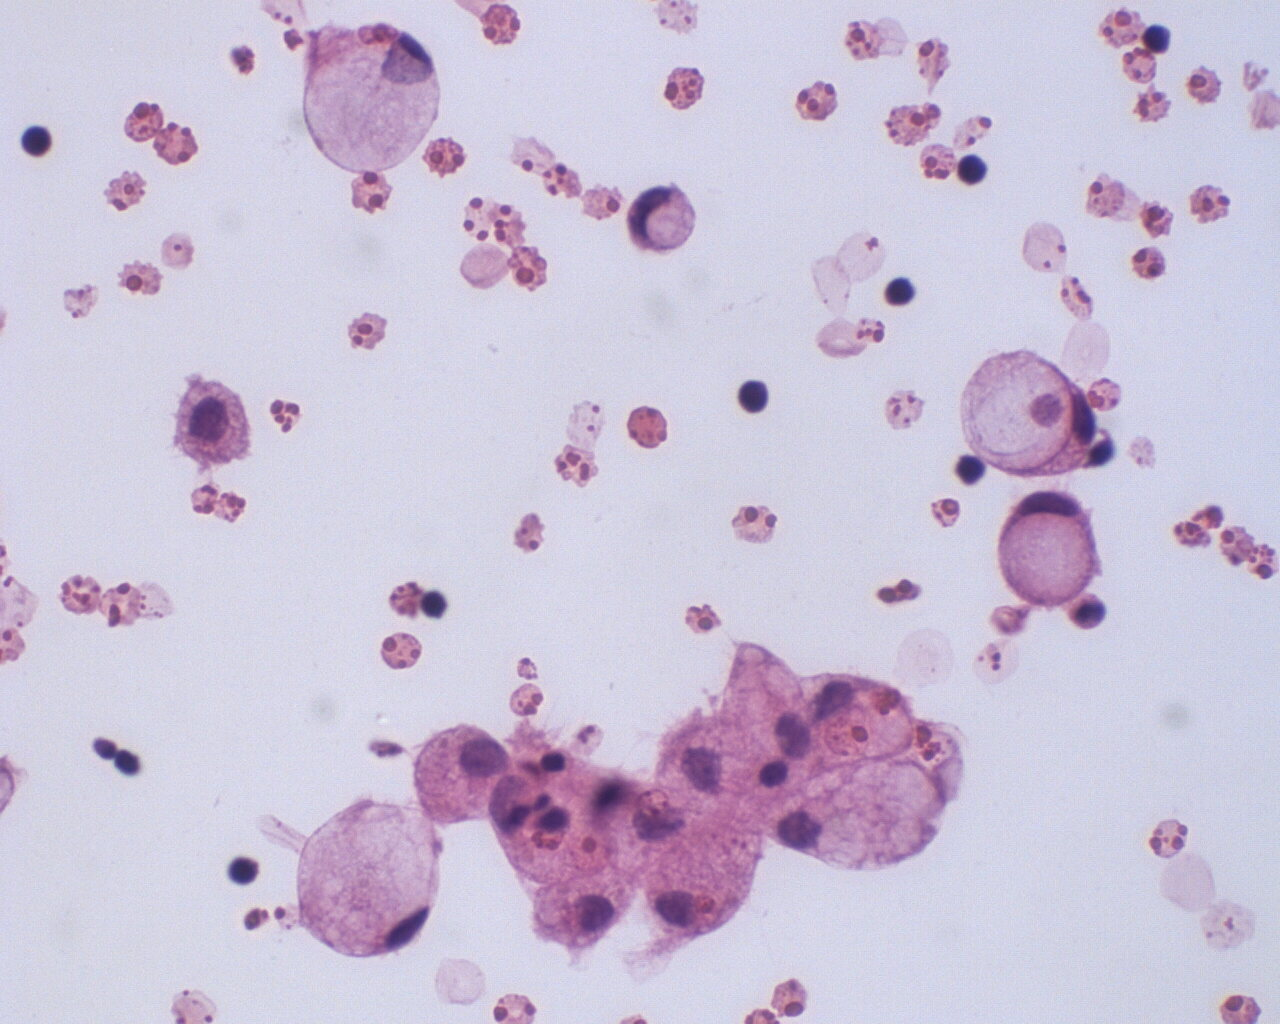histo: (294, 798, 448, 961), (960, 348, 1119, 478), (303, 29, 441, 174), (994, 486, 1100, 607), (411, 718, 514, 825), (624, 185, 704, 258)
lymph: (220, 850, 267, 893), (17, 115, 60, 163), (736, 371, 777, 419), (877, 273, 920, 313), (954, 148, 993, 193)
meso: (171, 377, 253, 467)
